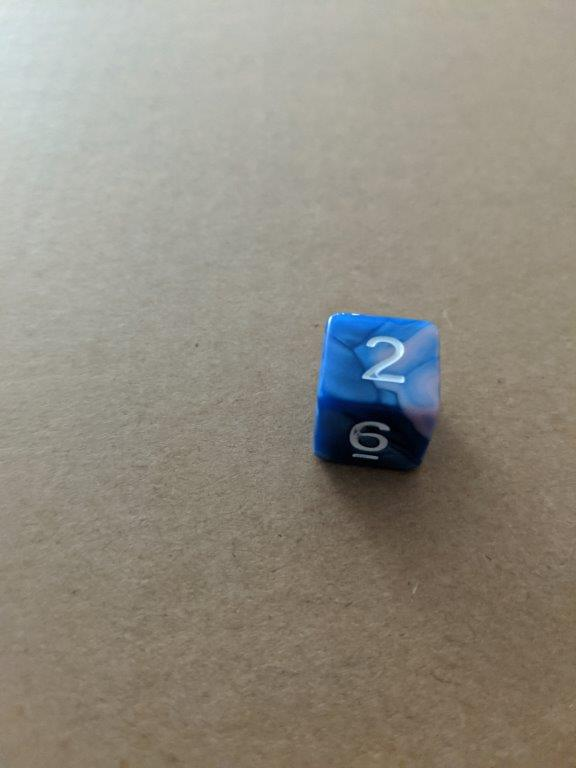d6-2: (308, 309, 445, 474)
